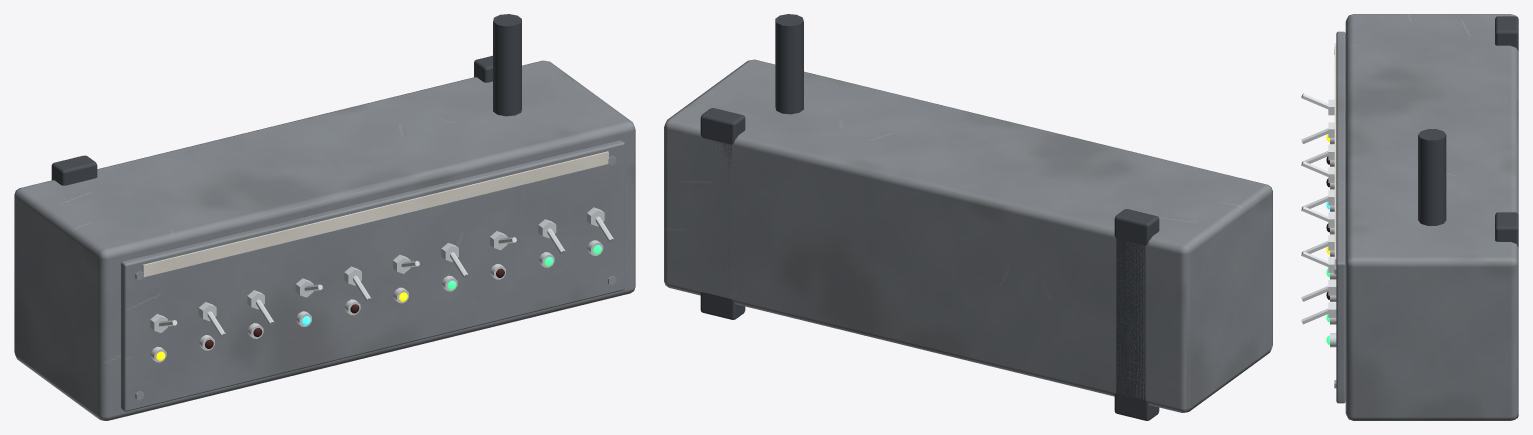
The model's file is WallBox_75_3.glb.
The picture shows the model from 3 angles, left to right: view 1: azimuth 30°, elevation 25°; view 2: azimuth 150°, elevation 25°; view 3: azimuth 270°, elevation 25°; orthographic projection. The views are drawn at different scales.
Parts seen in each view (by area): view 1: WallBox_75_3_Body; view 2: WallBox_75_3_Body; view 3: WallBox_75_3_Body.
Boxes of the visible parts, left/top/right/bottom form: WallBox_75_3_Body: left=14, top=14, right=635, bottom=420; WallBox_75_3_Body: left=664, top=14, right=1272, bottom=420; WallBox_75_3_Body: left=1301, top=14, right=1518, bottom=420.
Size of the model in its own units: 0.75 by 0.37 by 0.2766.
Materials: 9 (2 with a texture image).
